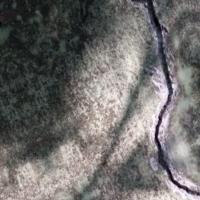crack: (141, 1, 199, 197)
